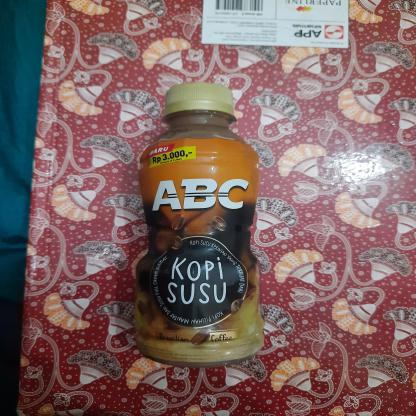bottle: (129, 79, 268, 367)
